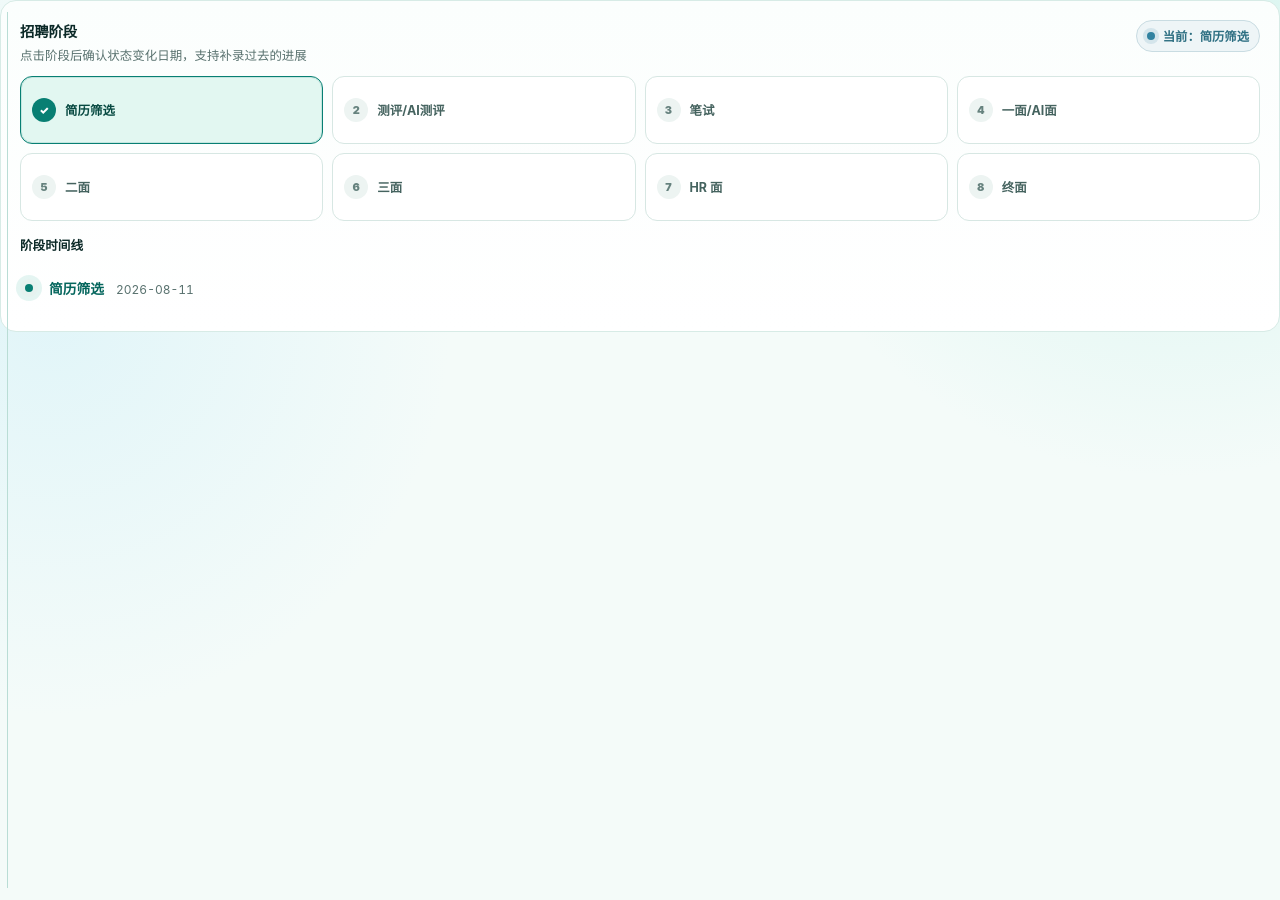
Test: 招聘阶段时间线 › 接口失败时保留原时间线并显示错误
This screenshot has width=1280, height=900.
Step 1. Click the button "3 笔试" → [668, 110], box x1=644 y1=76 x2=948 y2=144
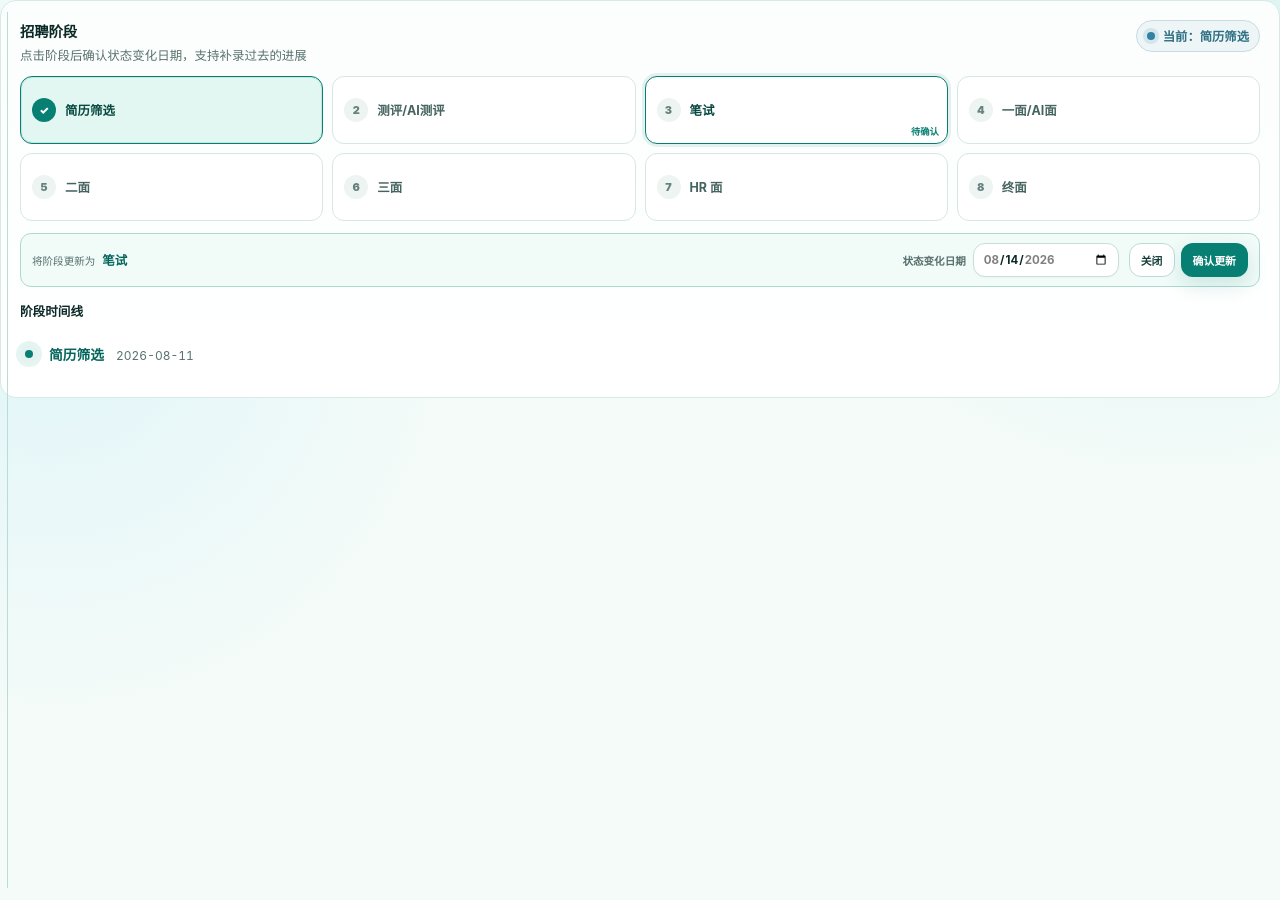
Step 2. Click the button "确认更新" → [1214, 260], box x1=1180 y1=243 x2=1248 y2=277
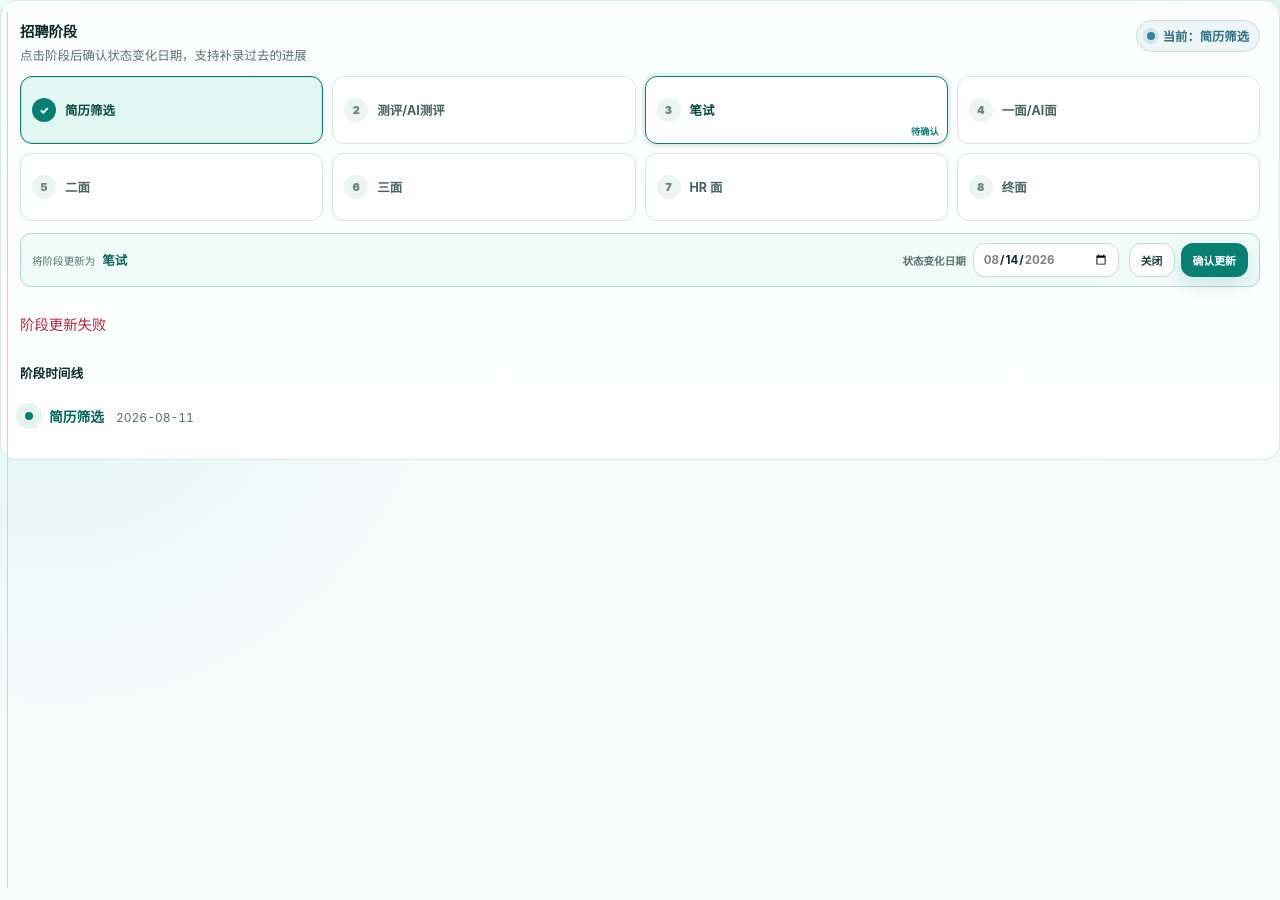
Expected: the text "2026-08-11" is shown, x1=116 y1=410 x2=194 y2=425
Result: the message reads "阶段更新失败" at x1=20 y1=316 x2=106 y2=333
